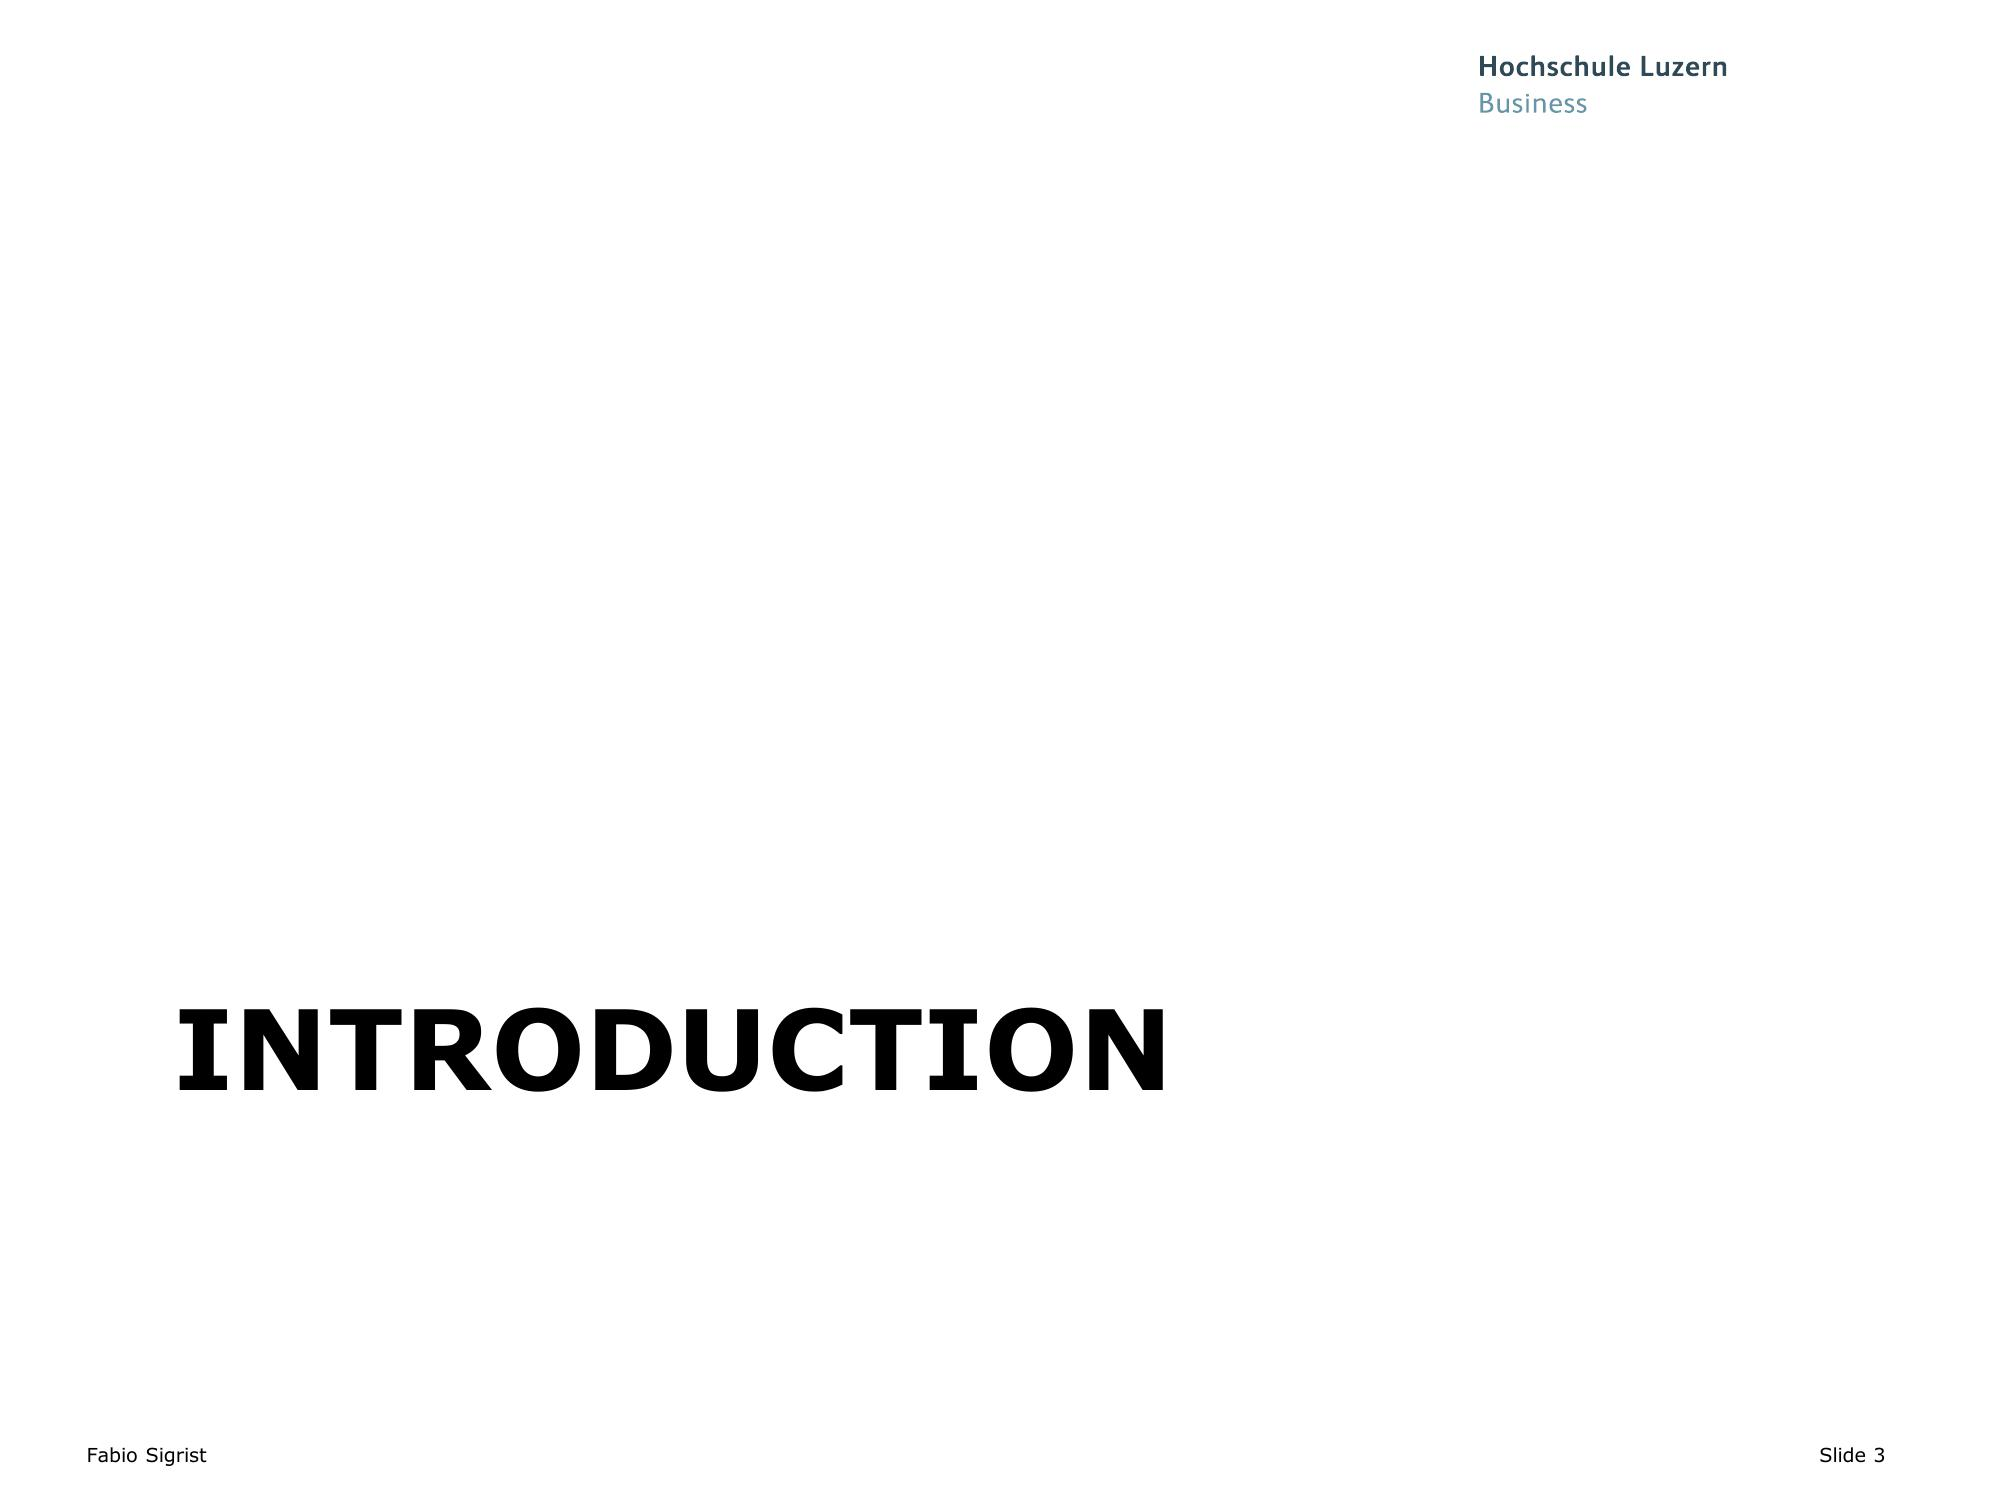Title: (106, 977, 1189, 1134)
